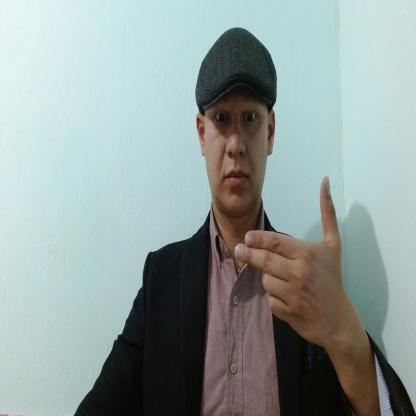H: (234, 177, 344, 343)
